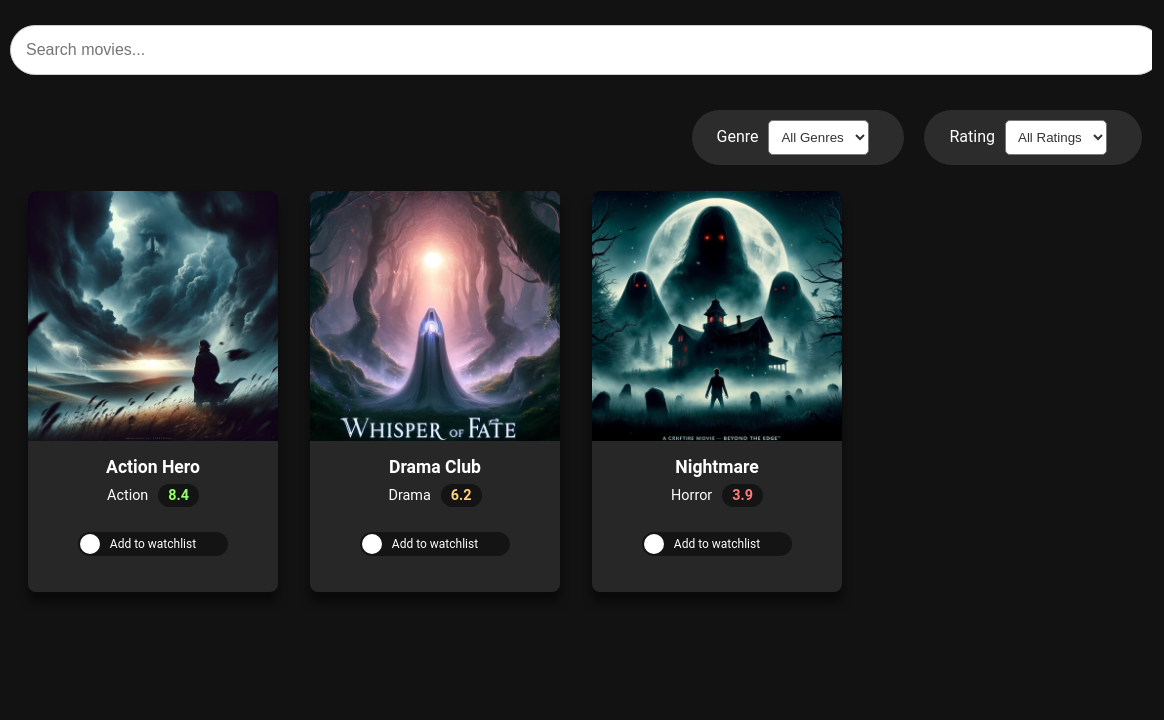
Test: MoviesGrid › filters movies by search term
Type "drama" into the field with placeholder "Search movies..." at (581, 50), box [10,25,1152,75]
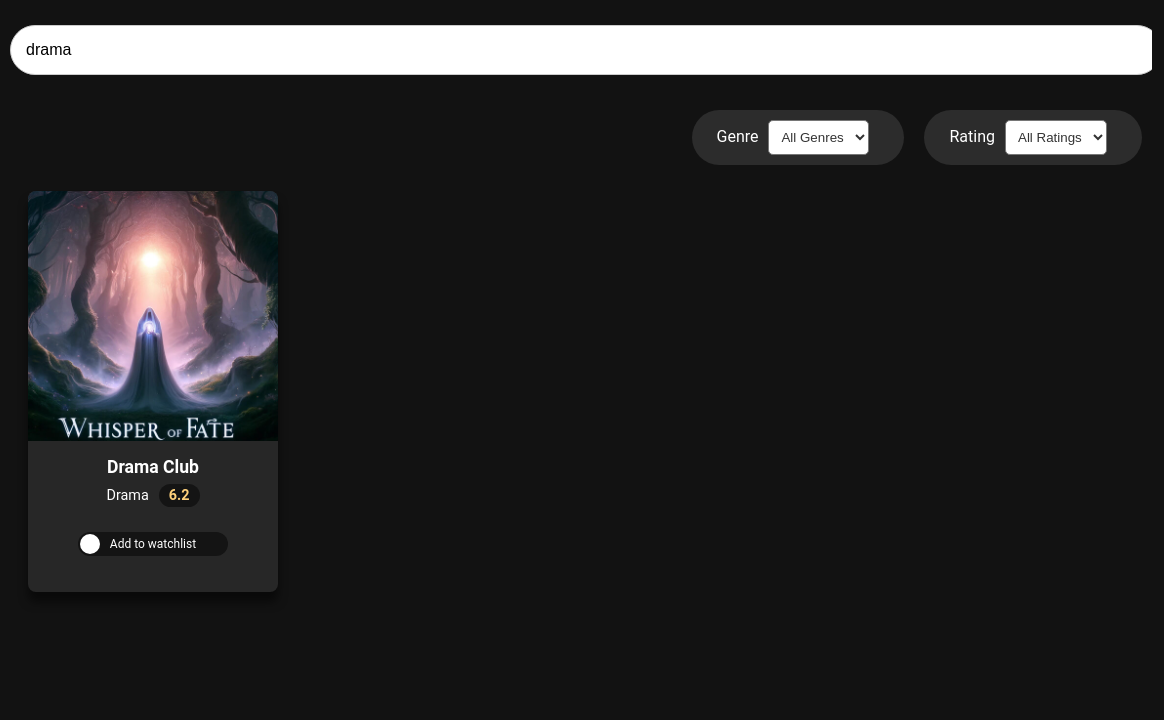
Check: the heading "Drama Club" is shown, box [107,457,199,477]
Check: the heading "Action Hero" is gone
Check: the heading "Nightmare" is gone
